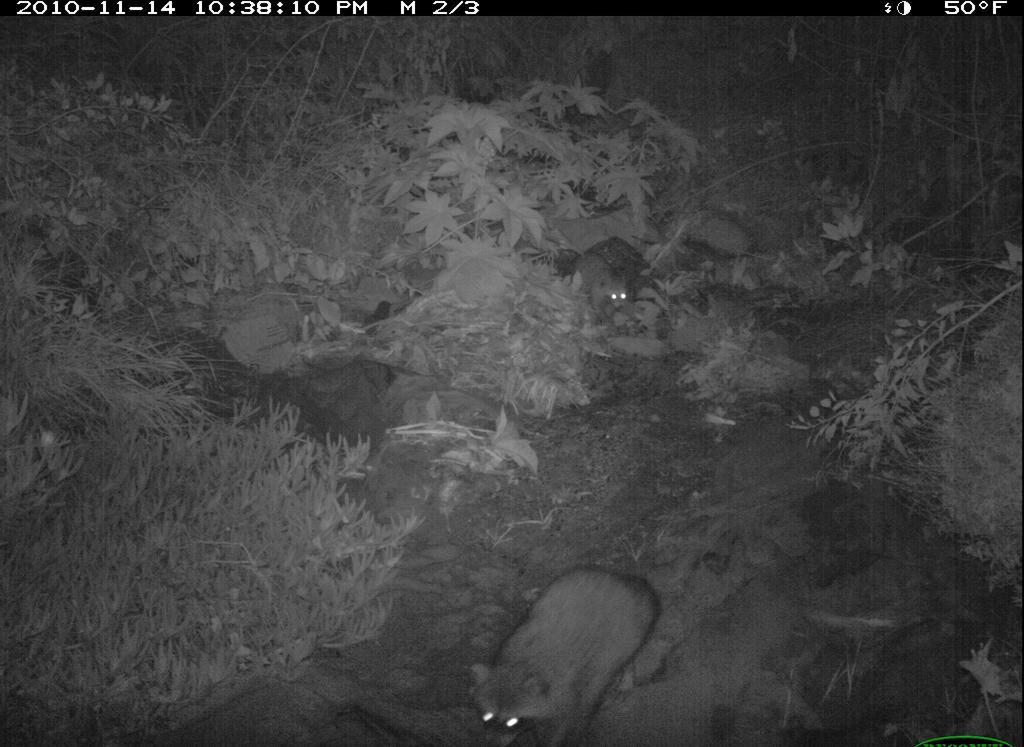raccoon: (460, 556, 670, 747), (562, 246, 644, 324)
